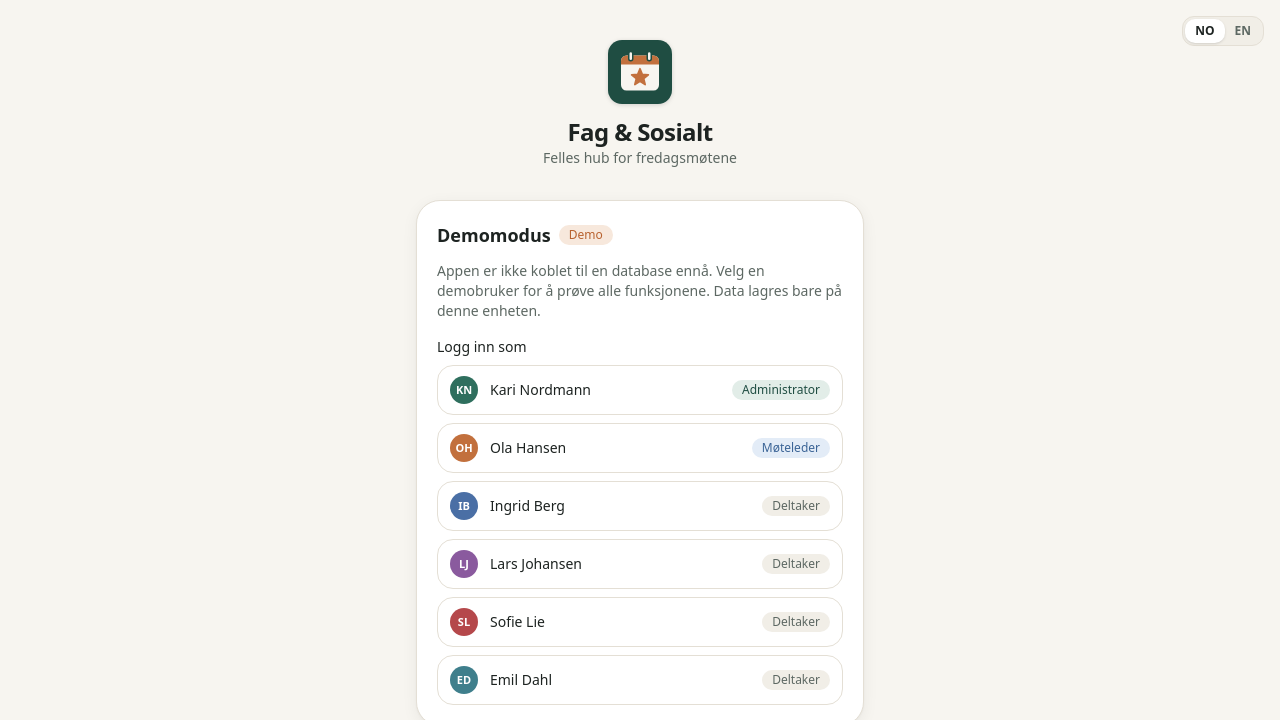
Test: Fag & Sosialt app (demo backend) › shows the demo login and opens the dashboard
This screenshot has width=1280, height=720.
expect the heading "Demomodus" is shown: met, box [437, 221, 551, 249]
Click the button "KN Kari Nordmann Administrator": (541, 390) [437, 365, 843, 415]
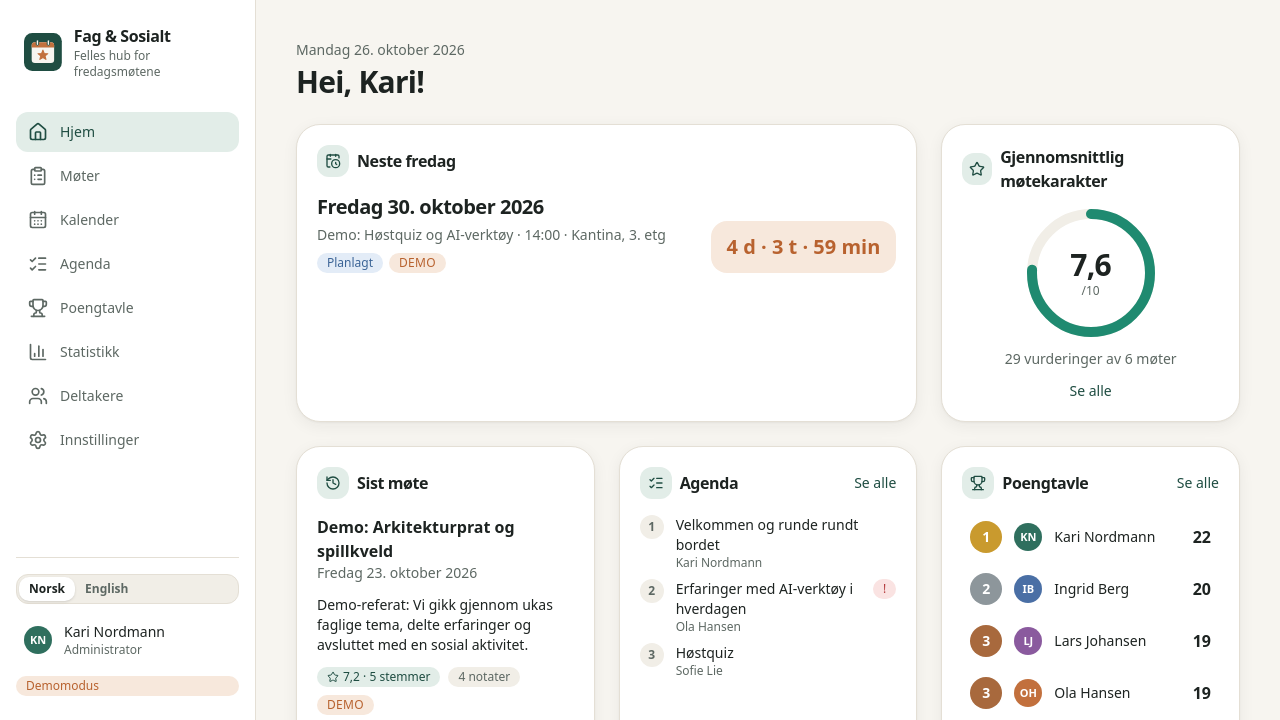
expect the heading "Hei, Kari!" is shown: met, box [296, 61, 424, 102]
expect the heading "Neste fredag" is shown: met, box [317, 145, 456, 177]
expect the link "Fredag 30. oktober 2026" is shown: met, box [317, 193, 544, 220]
